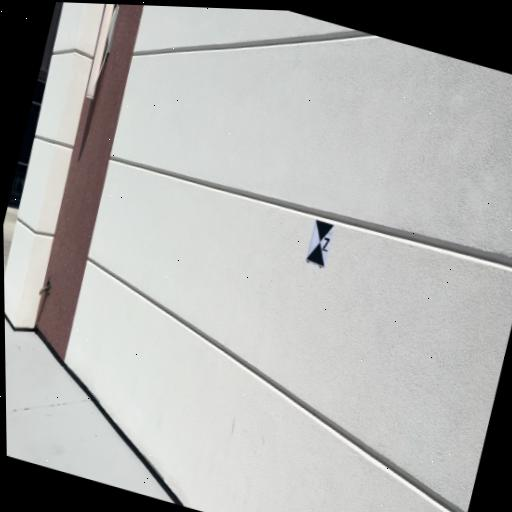target7: (305, 219, 335, 267)
